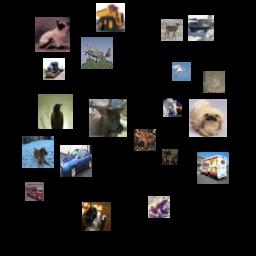airplane: (81, 37, 113, 69)
automobile: (60, 145, 92, 177)
bird: (38, 94, 73, 129), (172, 62, 191, 81)
cat: (35, 17, 70, 52), (82, 202, 111, 231)
deer: (89, 99, 127, 137), (161, 19, 183, 41)
dog: (189, 99, 227, 137), (22, 136, 54, 168), (203, 71, 225, 93)
frog: (148, 196, 170, 218), (134, 129, 156, 151), (162, 149, 178, 165)
truck: (197, 152, 229, 184), (96, 3, 125, 32), (188, 15, 214, 41), (43, 58, 65, 80), (25, 182, 44, 201)
